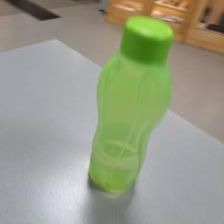bottle: (86, 16, 176, 197)
